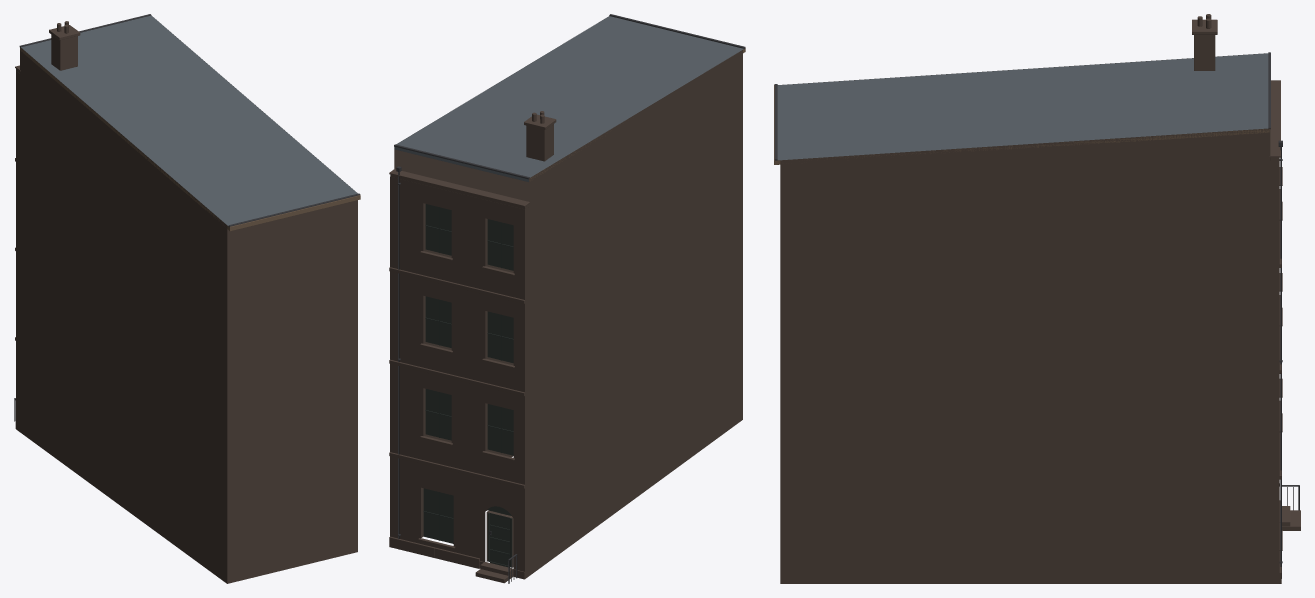
The model's file is terrace1-4.glb.
3 renders of one model, left to right at view 1: azimuth 30°, elevation 25°; view 2: azimuth 150°, elevation 25°; view 3: azimuth 270°, elevation 25°, orthographic. The views are drawn at different scales.
Visible parts, largest first — view 1: terrace1-4; view 2: terrace1-4; view 3: terrace1-4.
Boxes of the visible parts, bbox=[...] form: terrace1-4: bbox=[14, 14, 360, 583]; terrace1-4: bbox=[389, 14, 745, 583]; terrace1-4: bbox=[774, 14, 1300, 583].
Size of the model in its own units: 5.03 by 15.51 by 14.78.
